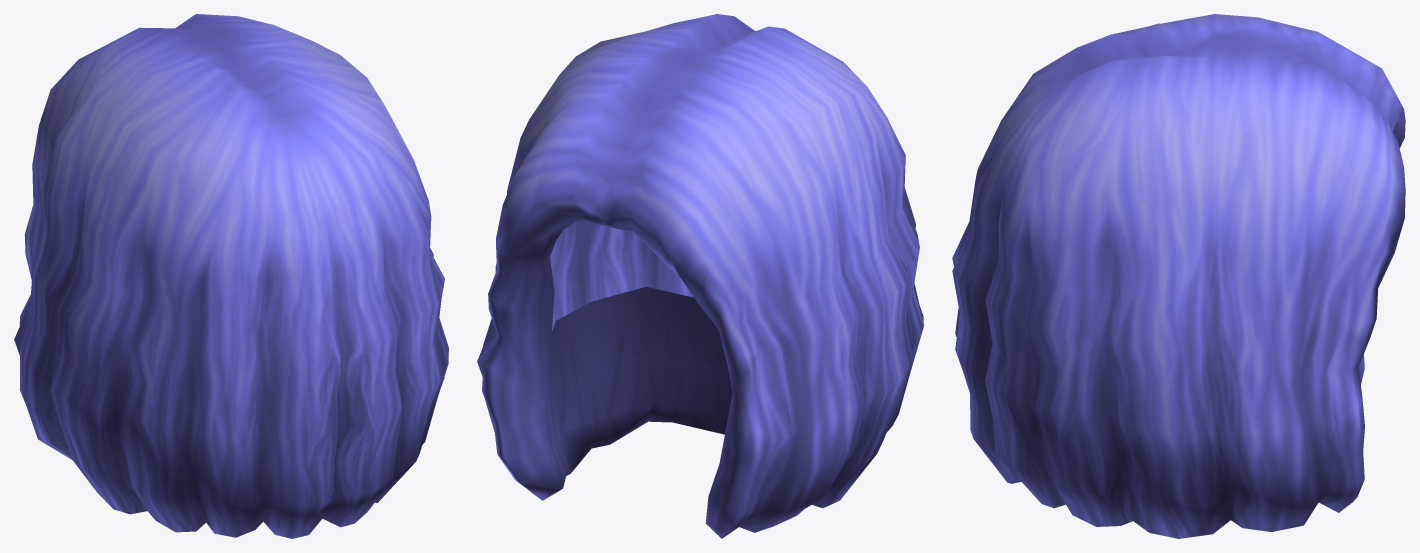
Rendered from Hair_Female_006_textured_sky.glb.
3 views of the same model, side by side, from view 1: azimuth 30°, elevation 25°; view 2: azimuth 150°, elevation 25°; view 3: azimuth 270°, elevation 25° (orthographic). The views are drawn at different scales.
Parts seen in each view (by area): view 1: Hair_Female_006; view 2: Hair_Female_006; view 3: Hair_Female_006.
Boxes of the visible parts, box(x1,y1,x2,y2) form: Hair_Female_006: box(14, 14, 448, 538); Hair_Female_006: box(477, 14, 923, 538); Hair_Female_006: box(952, 14, 1405, 538).
Bounding box in the file's own units: 0.2471 × 0.277 × 0.2597.
1 material, 1 textured.
